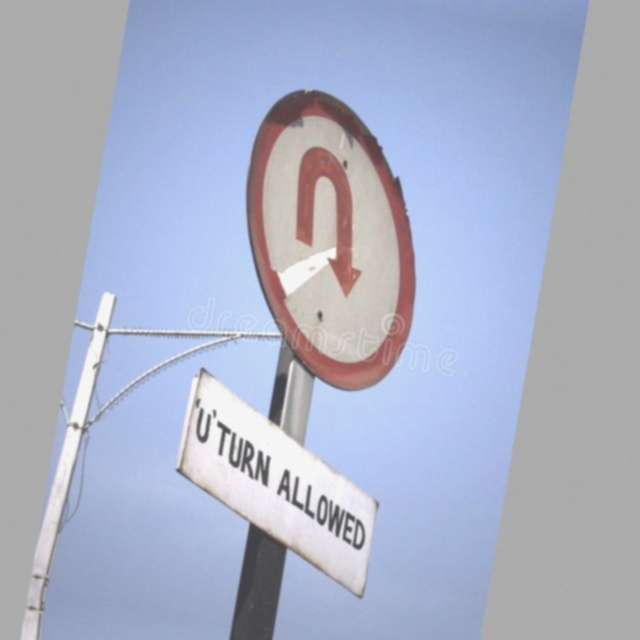U_Turn_Ahead: (217, 67, 471, 405)
